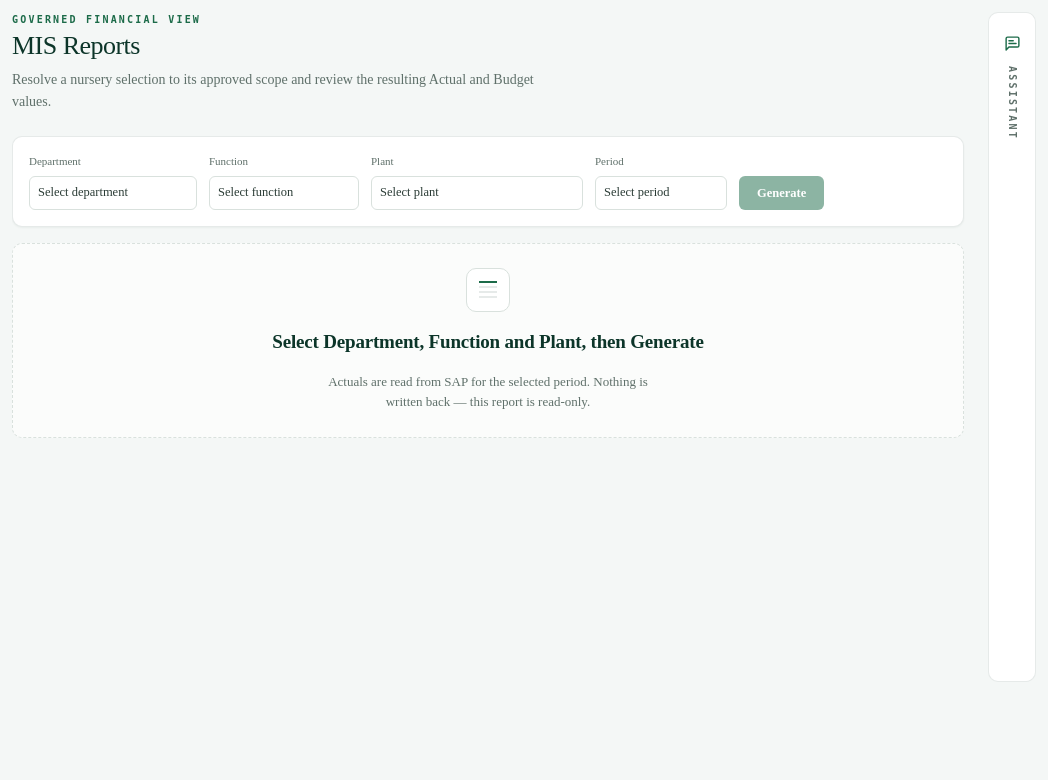
Scenario: a statement response missing the attested context does not offer a grounded ask
The image size is (1048, 780).
Expected: the dropdown labelled "Period" is shown, [595,176,727,210]
Select "Agriculture" in the dropdown labelled "Department" at (113,193), box [29,176,197,210]
Select "Nursery" in the dropdown labelled "Function" at (284,193), box [209,176,359,210]
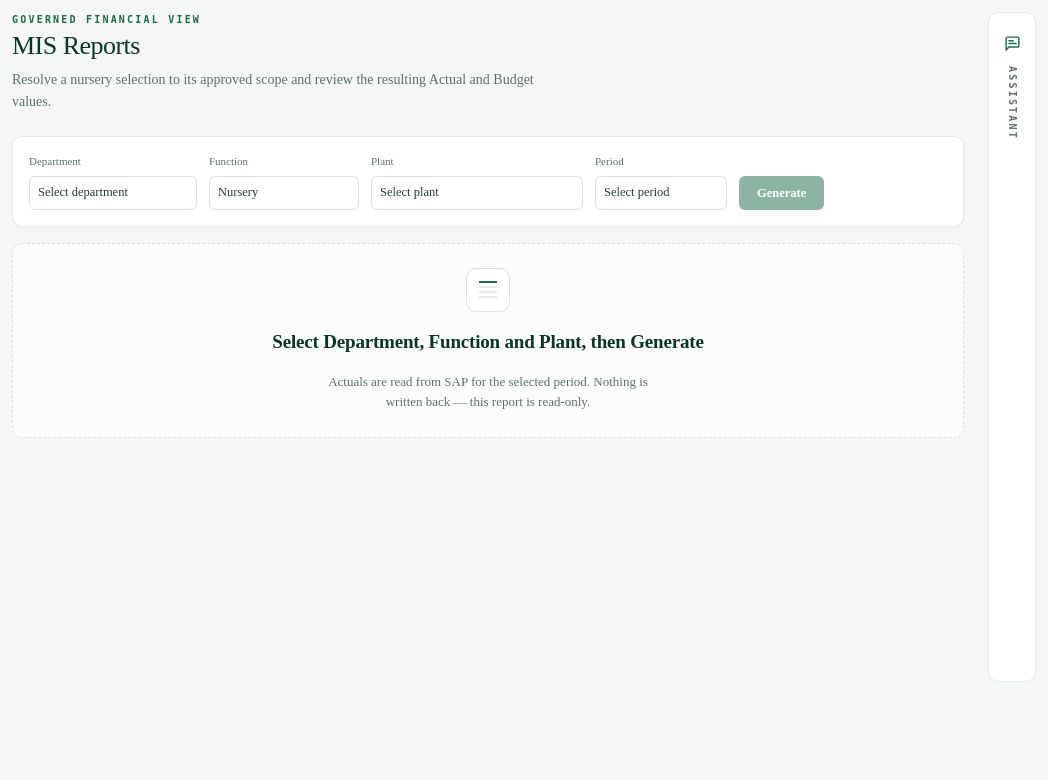
Select "Agri - Nursery - DUB" in the dropdown labelled "Plant" at (477,193), box [371,176,583,210]
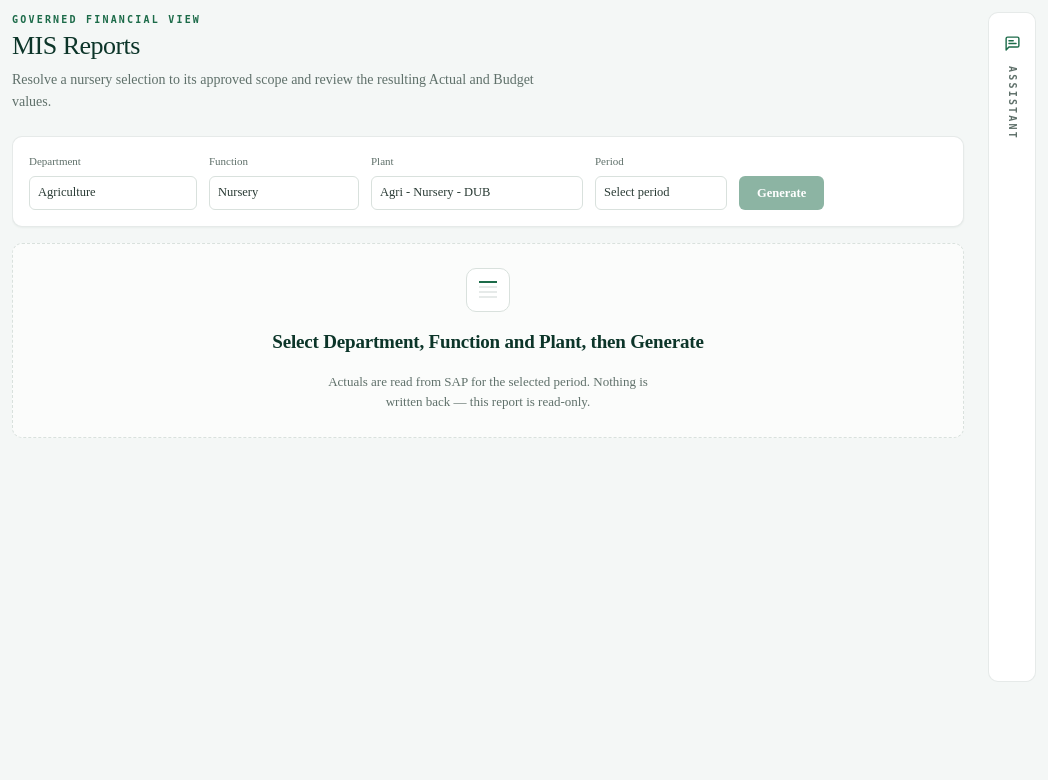
Select "Jul 2026" in the dropdown labelled "Period" at (661,193), box [595,176,727,210]
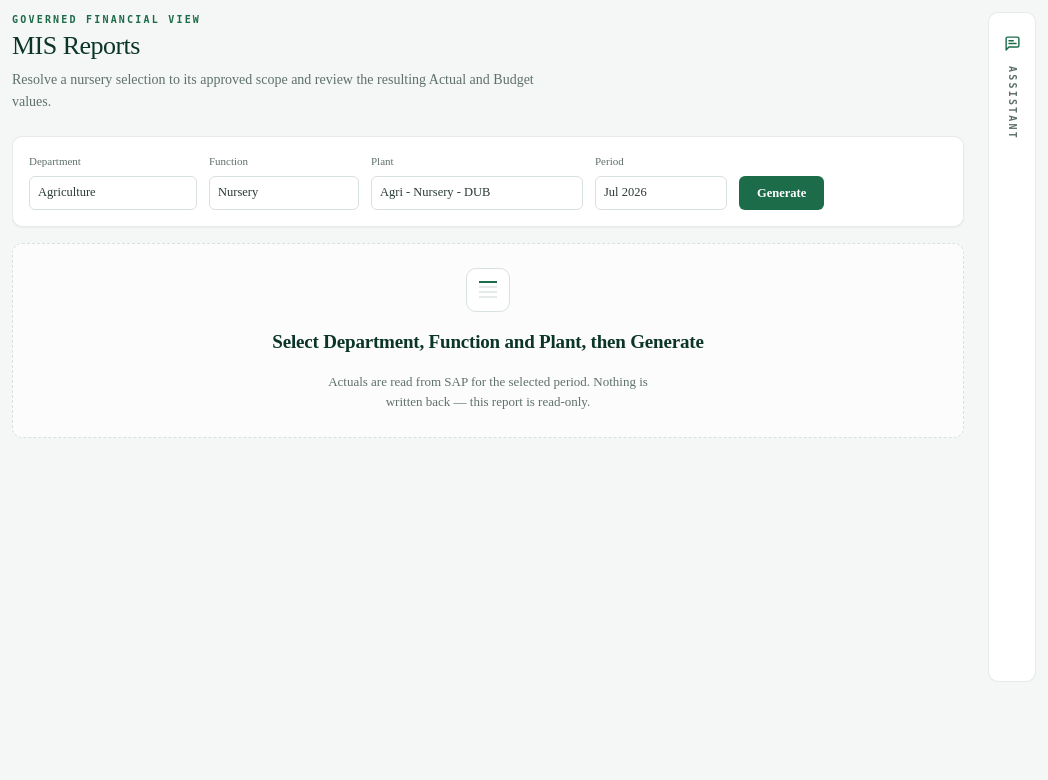
Click the button "Generate".
click(782, 193)  # box [739,176,824,210]
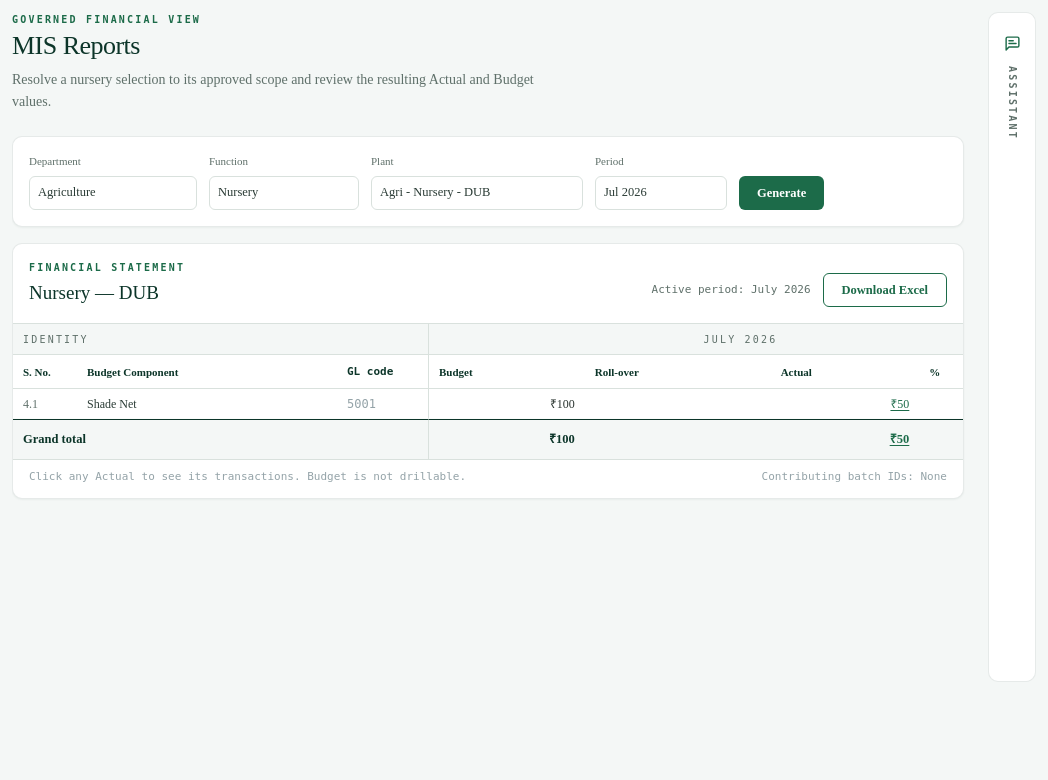
Result: the table named "Financial MIS statement" is shown at [13,324,963,459]
Click the button "Assistant".
click(1012, 347)  # box [988,12,1036,682]
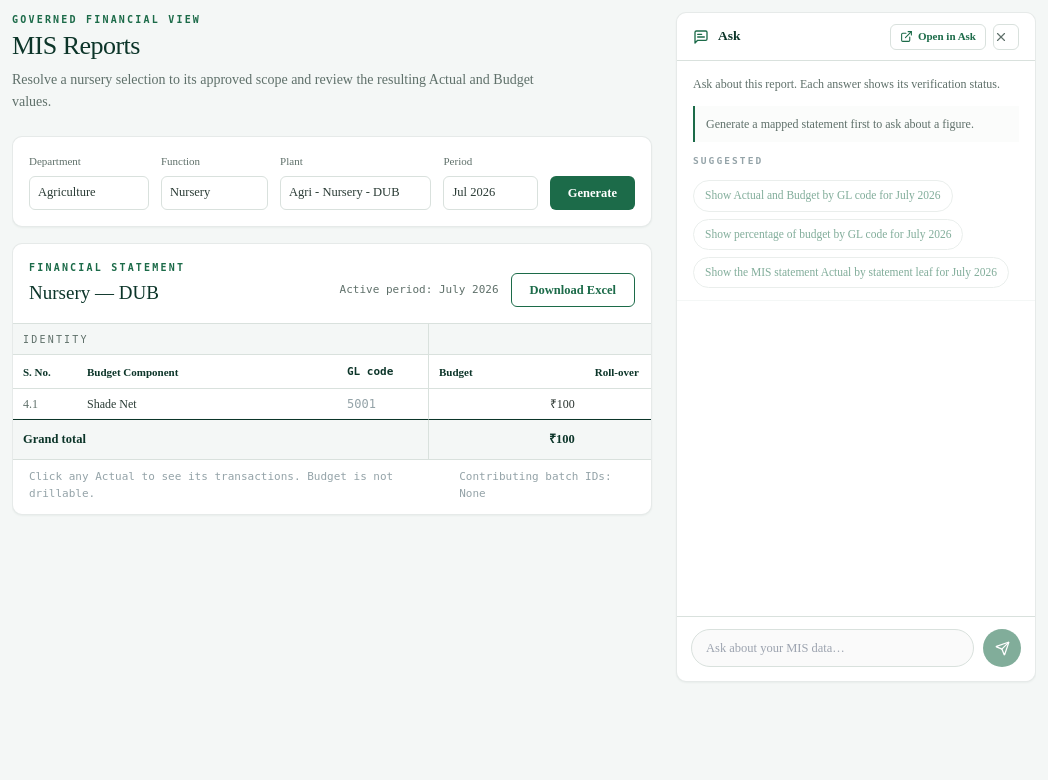
Result: the message shows "Generate a mapped statement first" at [706,117,974,131]
